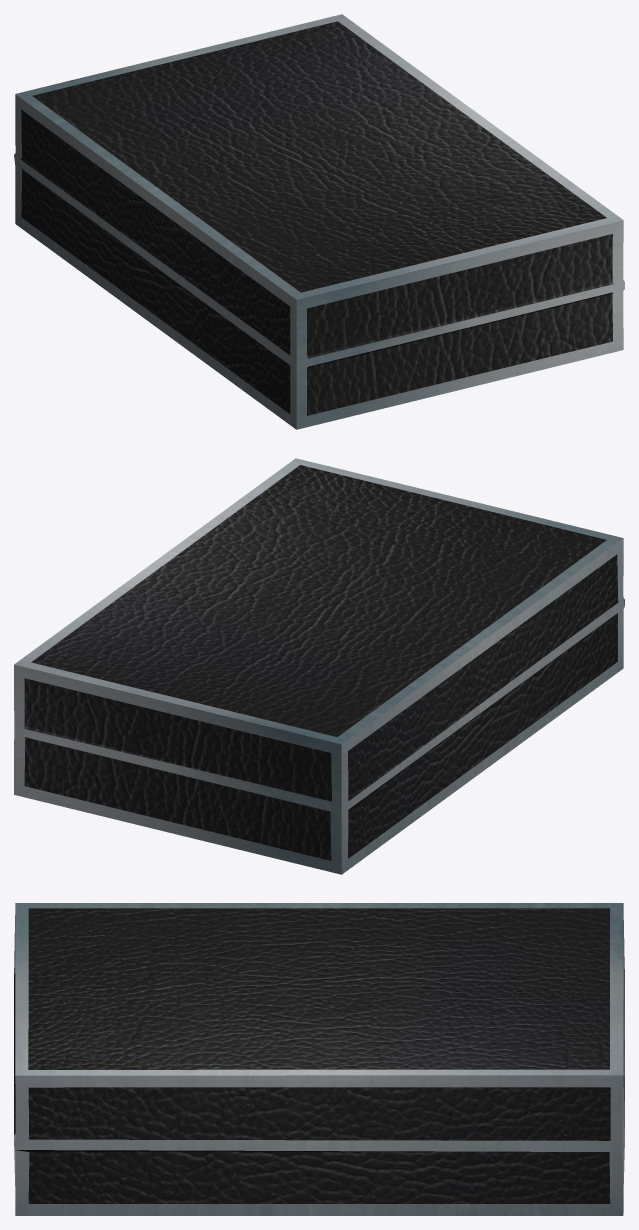
File: CASE_02.fbx
3 views of the same model, one above another, from view 1: azimuth 30°, elevation 25°; view 2: azimuth 150°, elevation 25°; view 3: azimuth 270°, elevation 25° (orthographic). The views are drawn at different scales.
Parts seen in each view (by area): view 1: CASE_02; view 2: CASE_02; view 3: CASE_02.
Part boxes in pixels (x1=…): CASE_02: x1=14, y1=14, x2=624, y2=429; CASE_02: x1=14, y1=458, x2=624, y2=874; CASE_02: x1=14, y1=903, x2=624, y2=1215.
Bounding box in the file's own units: 69.96 × 26.5 × 104.
